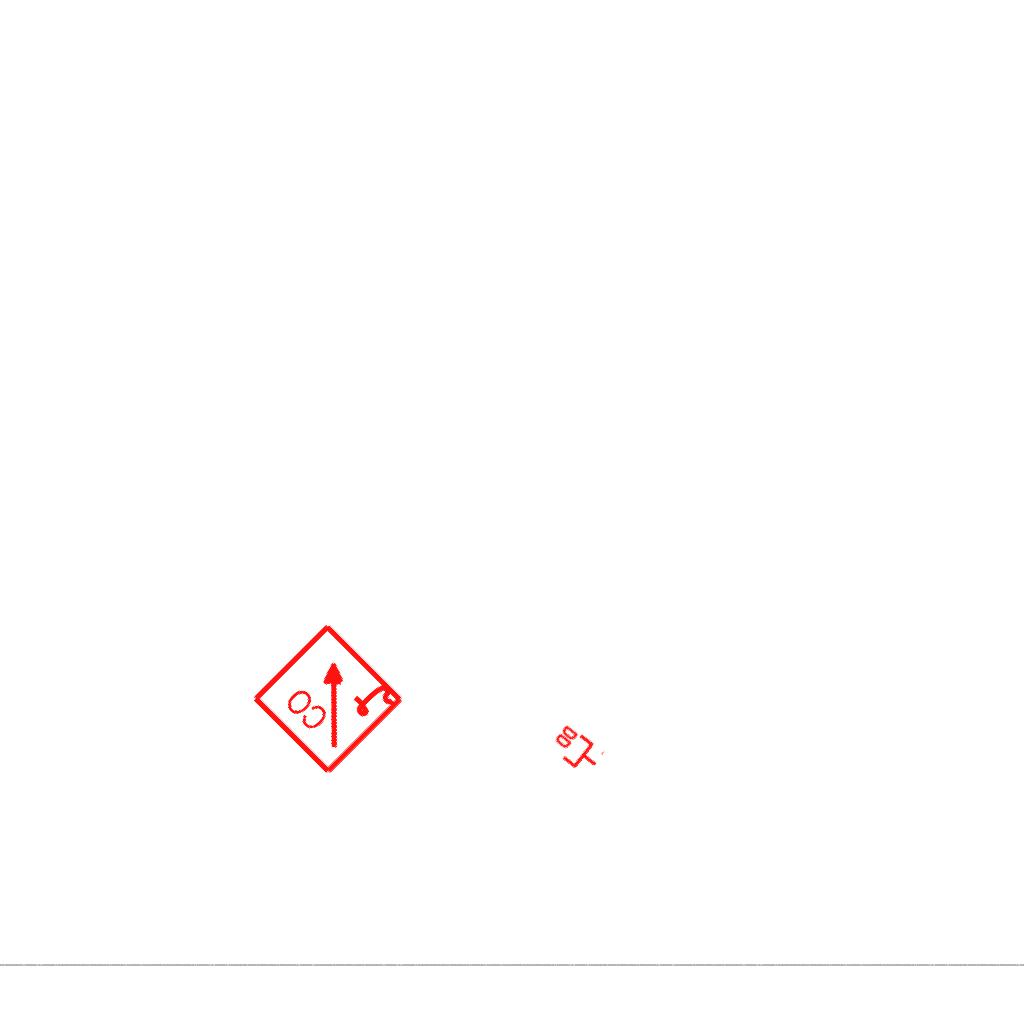Datenanschluss_zweifach: (545, 721, 607, 780)
ROA_Rauchmelder_optisch_mit_Signalgeber_(Sockelsirene): (248, 617, 409, 778)
